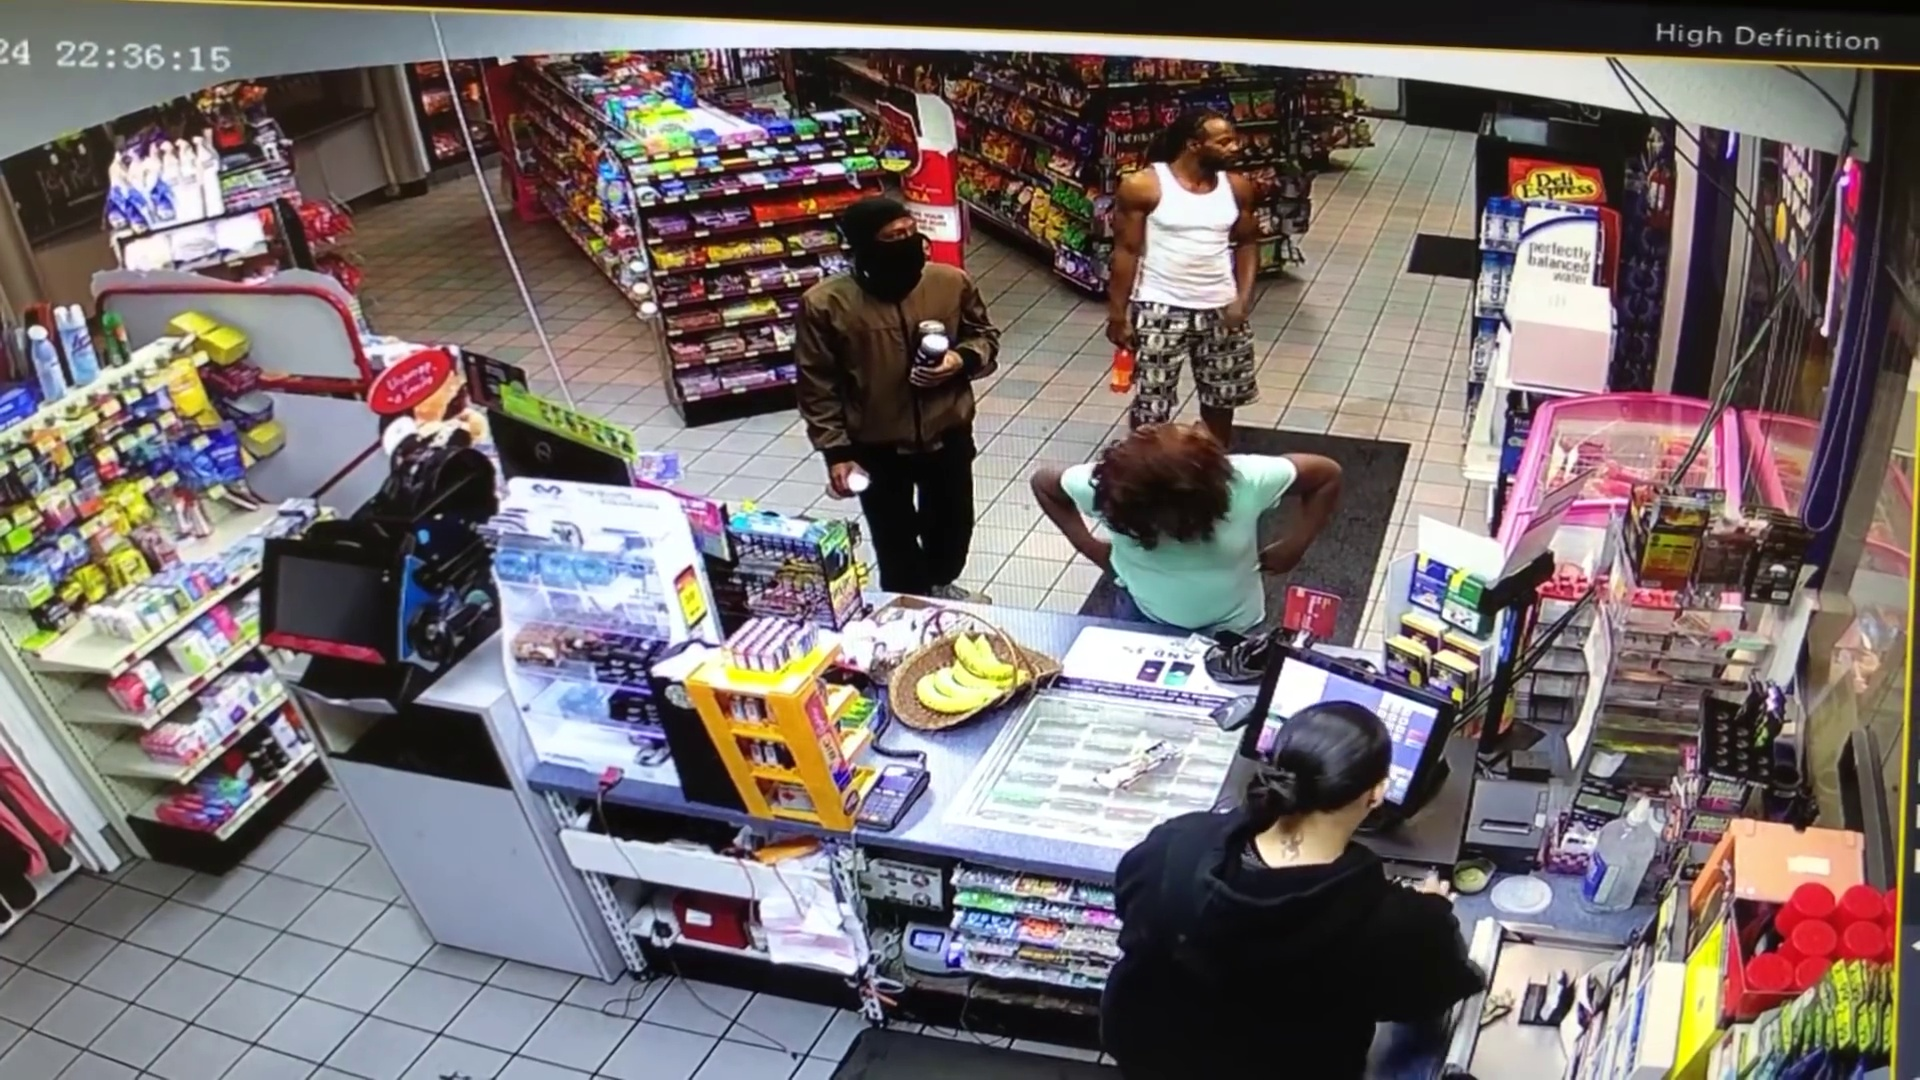face: (857, 209, 920, 262), (1196, 119, 1244, 174)
